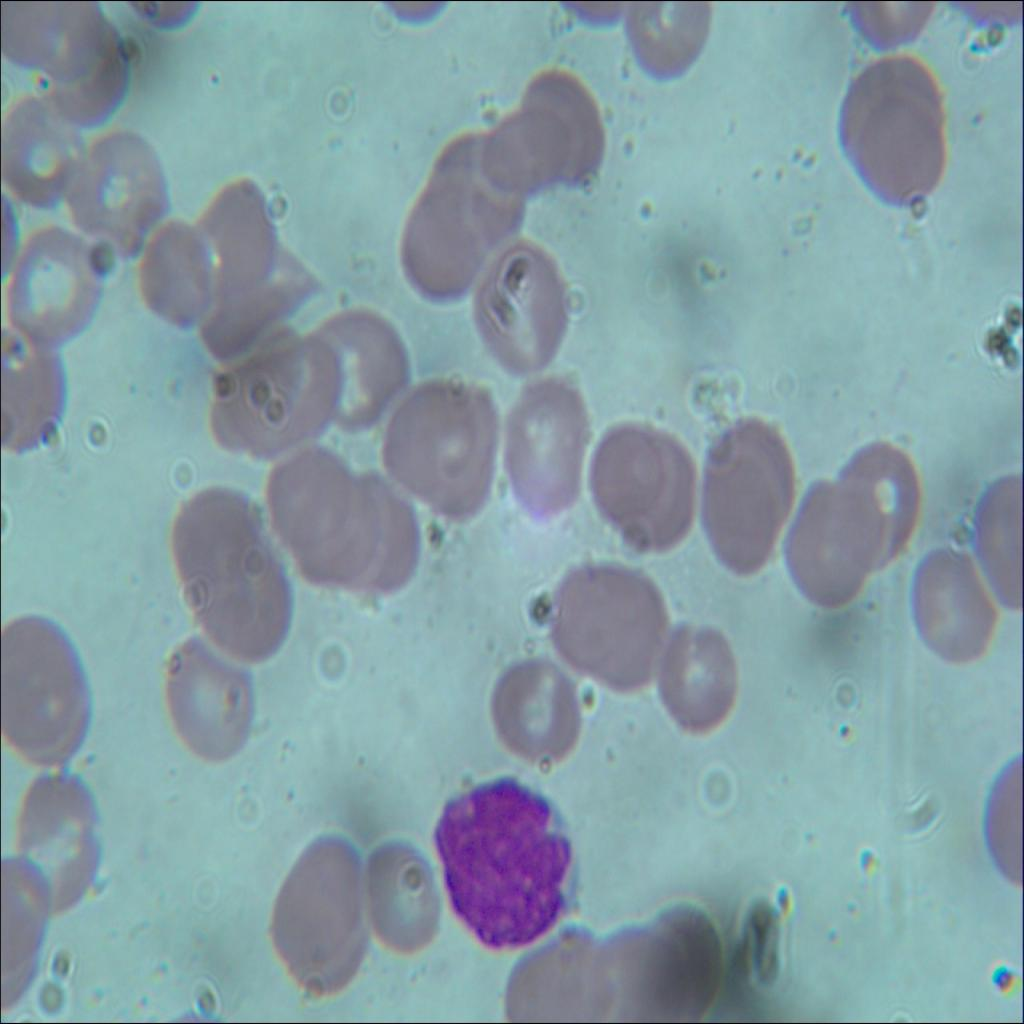Eritrosit: (698, 409, 799, 580), (258, 831, 366, 988), (386, 374, 496, 524), (838, 64, 949, 205), (548, 561, 668, 688), (300, 311, 410, 445), (63, 128, 168, 266), (484, 642, 590, 776), (581, 428, 690, 554), (18, 765, 108, 917), (468, 242, 574, 367), (0, 224, 106, 349), (226, 344, 336, 458), (394, 178, 488, 311), (506, 372, 589, 521), (164, 634, 261, 760), (779, 476, 875, 602), (196, 550, 298, 666), (0, 612, 81, 758), (834, 438, 924, 566), (428, 127, 526, 242), (911, 545, 1001, 665), (528, 64, 604, 205), (319, 484, 418, 592), (192, 175, 278, 298), (50, 8, 136, 127), (0, 327, 78, 454), (204, 263, 301, 365), (503, 934, 614, 1023), (134, 214, 219, 328), (362, 841, 442, 962), (0, 90, 82, 204), (652, 891, 722, 1023), (658, 624, 742, 732), (594, 917, 678, 1023), (169, 497, 258, 591), (0, 0, 102, 81), (479, 101, 559, 202), (275, 454, 348, 559), (0, 854, 49, 961)
Limfoblast: (424, 771, 578, 942)
